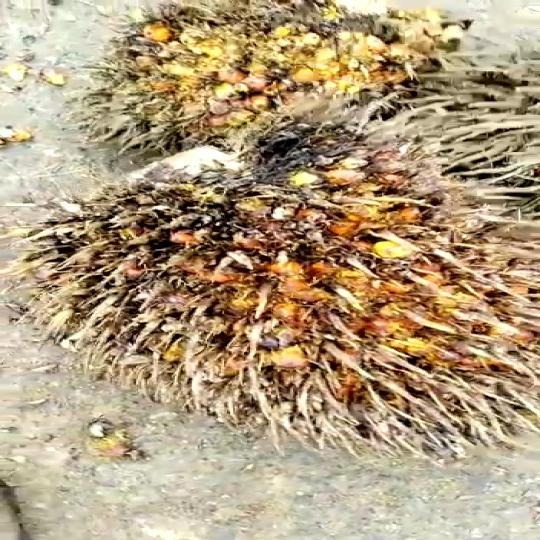terlalu masak: (42, 173, 520, 419), (82, 0, 460, 154)
